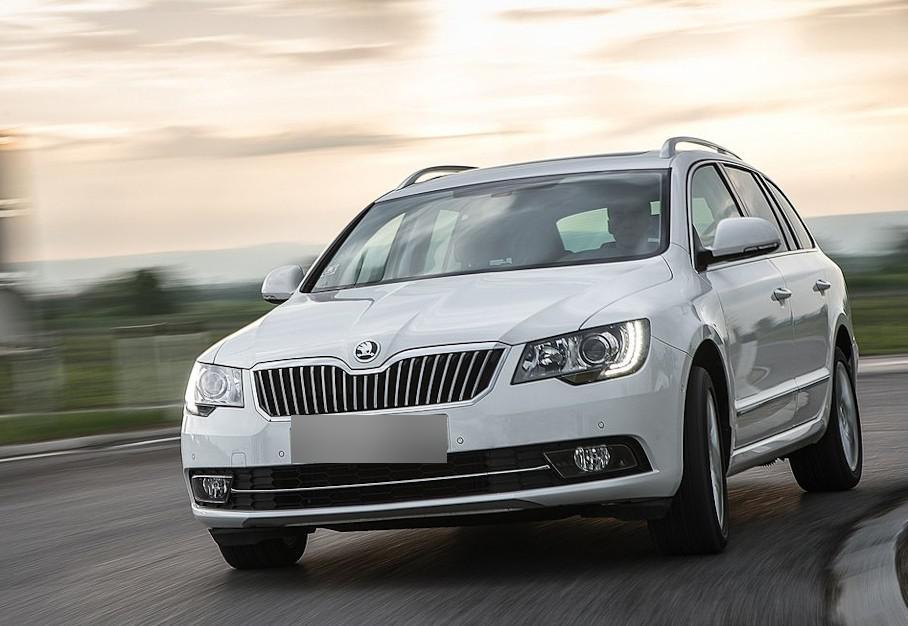Wagon: (178, 136, 862, 567)
